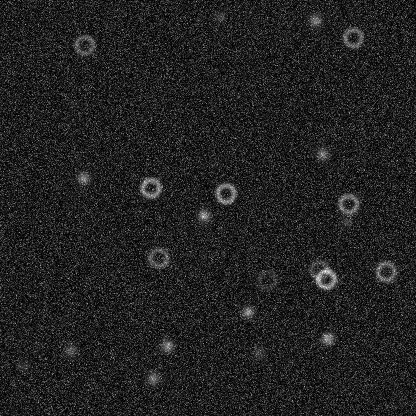Ring: (146, 245, 170, 269), (313, 266, 337, 290), (72, 32, 96, 56), (138, 175, 162, 199), (254, 268, 278, 292), (336, 191, 360, 215), (373, 259, 397, 283), (213, 181, 237, 205), (340, 25, 364, 49), (307, 257, 331, 281)
Spot: (319, 330, 335, 346), (144, 370, 160, 386), (62, 342, 78, 358), (195, 207, 211, 223), (211, 8, 227, 24), (250, 344, 266, 360), (15, 357, 31, 373), (338, 213, 354, 229), (307, 12, 323, 28), (75, 170, 91, 186), (239, 303, 255, 319), (158, 337, 174, 353), (314, 145, 330, 161)
